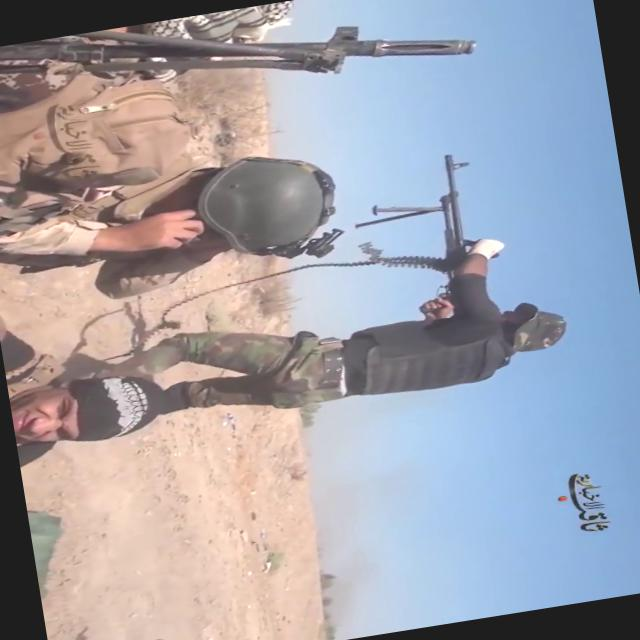long weapon: (338, 150, 524, 326)
